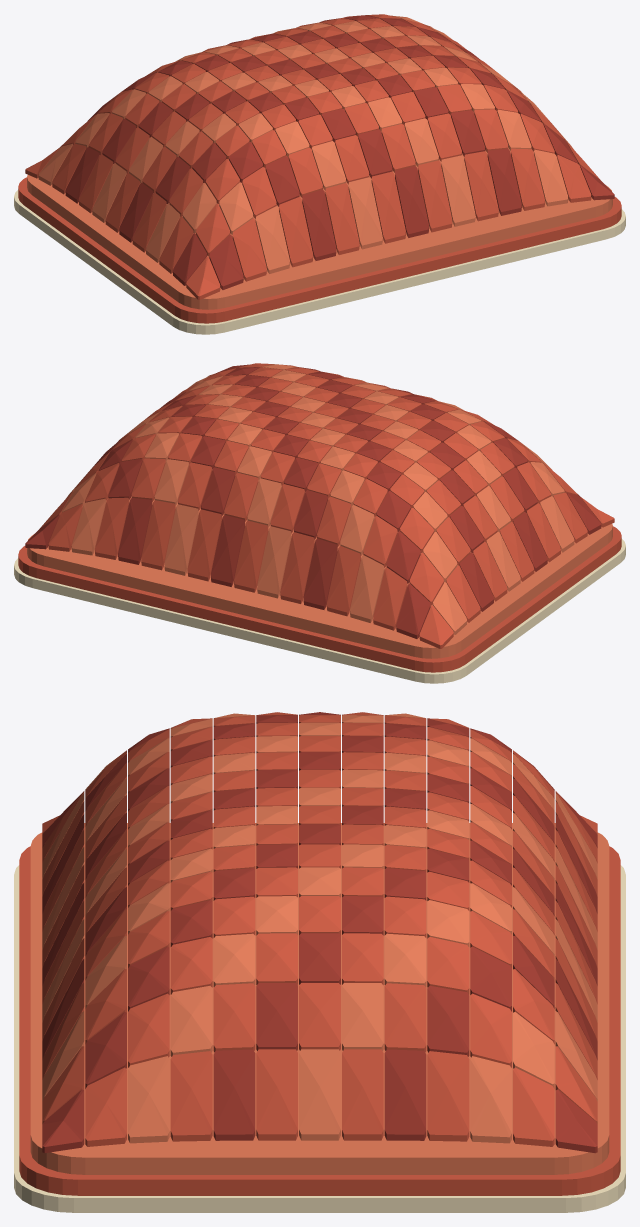
The model's file is HealingRoof.glb.
3 renders of one model, top to bottom at view 1: azimuth 30°, elevation 25°; view 2: azimuth 150°, elevation 25°; view 3: azimuth 270°, elevation 25°, orthographic. The views are drawn at different scales.
Visible parts, largest first — view 1: HealingRoof; view 2: HealingRoof; view 3: HealingRoof.
Part boxes in pixels (<box>): HealingRoof: <box>14,14,625,334</box>; HealingRoof: <box>14,363,625,683</box>; HealingRoof: <box>14,712,625,1212</box>.
Bounding box in the file's own units: 6.2 × 2.1 × 4.6.
